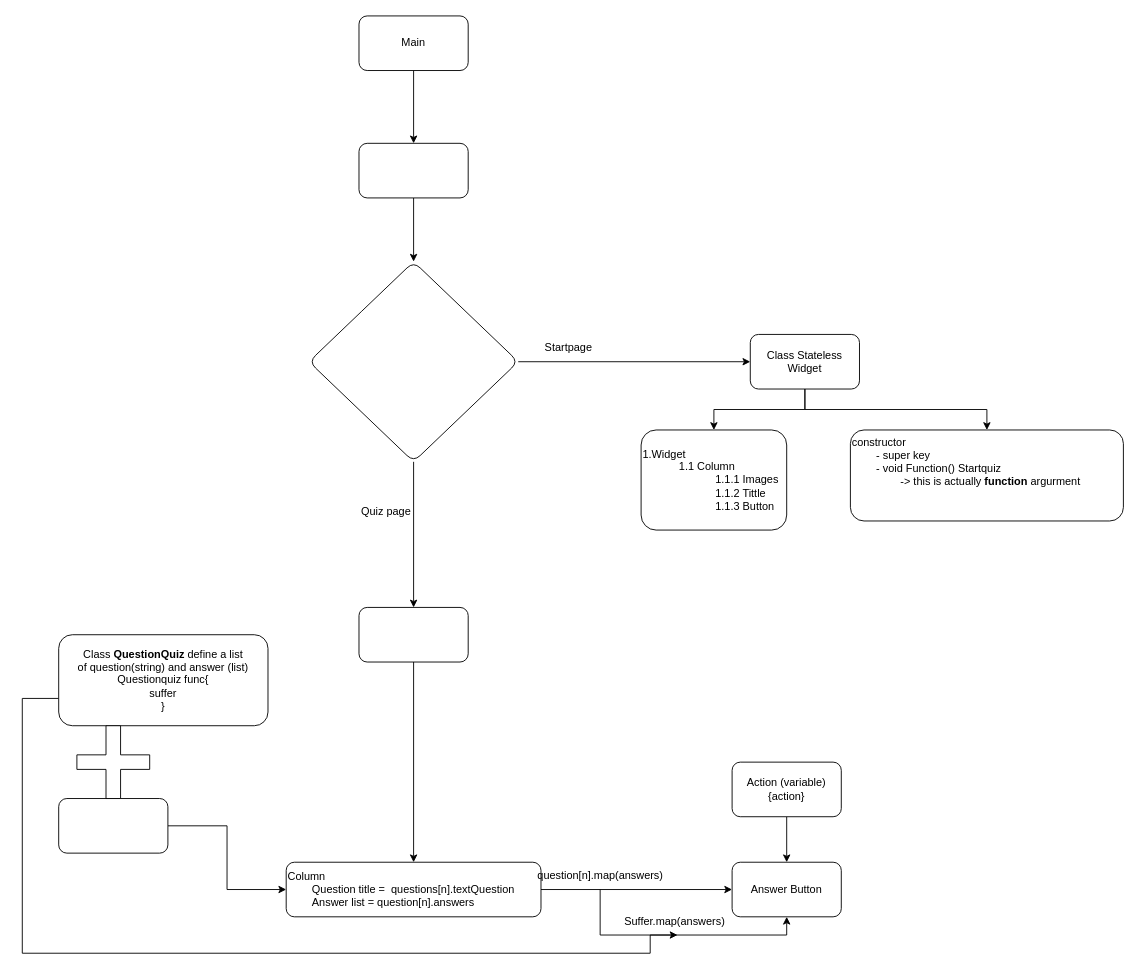
This 1139x976 diagram has some shape labels left out. The box of each missing label's shape, as (x1, y1, x2, y2) in pixels:
A list of material questions: (58, 798, 168, 853)
Class StatefulWidget: (358, 607, 468, 662)
Quiz.dart (Scafold): (358, 142, 468, 198)
void switchScreen Widget activeScreen: (308, 261, 518, 462)
